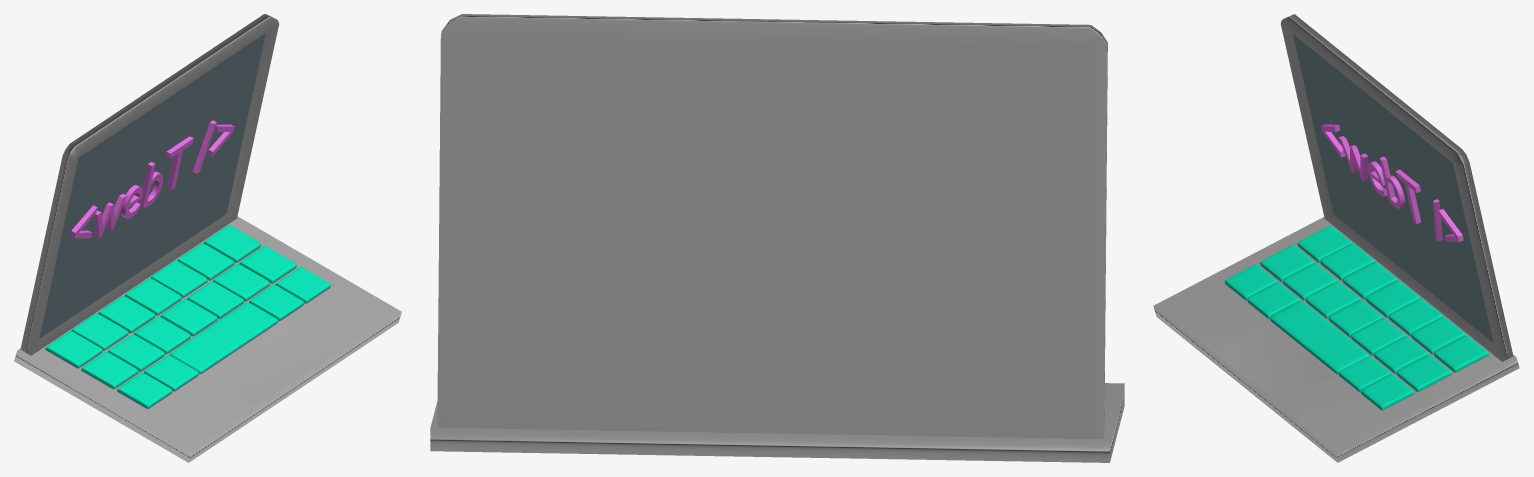
The model's file is laptop.glb.
The picture shows the model from 3 angles, left to right: view 1: azimuth 30°, elevation 25°; view 2: azimuth 150°, elevation 25°; view 3: azimuth 270°, elevation 25°; orthographic projection. The views are drawn at different scales.
Visible parts, largest first — view 1: monitor, Cube.014, Cube.015, Text, Cube.057, Cube.091, Cube.086, Cube.092, Cube.080, Cube.097, Cube.085, Cube.083 (+11 smaller); view 2: Cube.015, Cube.014; view 3: Cube.014, monitor, Cube.015, Text, Cube.057, Cube.092, Cube.097, Cube.083, Cube.082, Cube.095, Cube.094, Cube.087 (+11 smaller).
Part boxes in pixels (left/top/right/bottom): monitor: left=39, top=33, right=265, bottom=338; Cube.014: left=14, top=216, right=401, bottom=462; Cube.015: left=20, top=14, right=279, bottom=355; Text: left=70, top=120, right=234, bottom=238; Cube.057: left=170, top=302, right=278, bottom=373; Cube.091: left=81, top=352, right=138, bottom=389; Cube.086: left=45, top=331, right=102, bottom=368; Cube.092: left=239, top=246, right=296, bottom=283; Cube.080: left=160, top=299, right=217, bottom=336; Cube.097: left=203, top=225, right=260, bottom=262; Cube.085: left=125, top=278, right=181, bottom=315; Cube.083: left=98, top=296, right=155, bottom=333; Cube.015: left=437, top=14, right=1107, bottom=439; Cube.014: left=430, top=383, right=1124, bottom=462; Cube.014: left=1153, top=217, right=1519, bottom=462; monitor: left=1293, top=34, right=1493, bottom=342; Cube.015: left=1280, top=14, right=1513, bottom=361; Text: left=1321, top=124, right=1463, bottom=242; Cube.057: left=1270, top=301, right=1368, bottom=374; Cube.092: left=1396, top=355, right=1451, bottom=392; Cube.097: left=1434, top=336, right=1489, bottom=372; Cube.083: left=1343, top=262, right=1397, bottom=299; Cube.082: left=1305, top=282, right=1360, bottom=318; Cube.095: left=1411, top=317, right=1465, bottom=354; Cube.094: left=1373, top=337, right=1428, bottom=373; Cube.087: left=1320, top=244, right=1375, bottom=280.
Bounding box in the file's own units: 1 × 0.697 × 0.8305.
